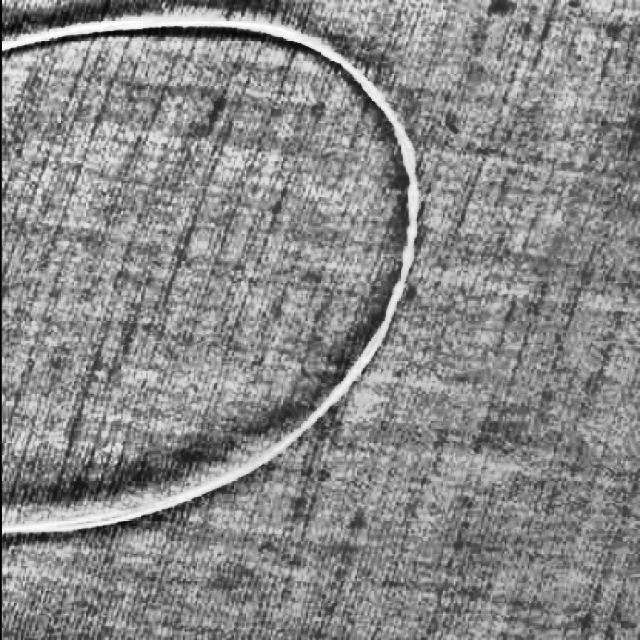objects: (1, 12, 428, 549)
